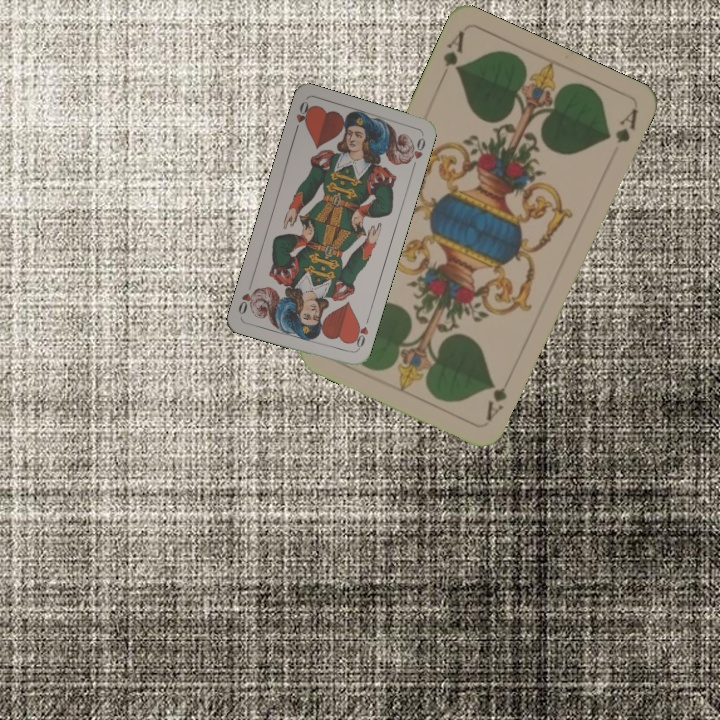GA: (482, 369, 515, 424), (438, 27, 468, 75)
HO: (348, 313, 372, 353), (290, 97, 314, 137)
